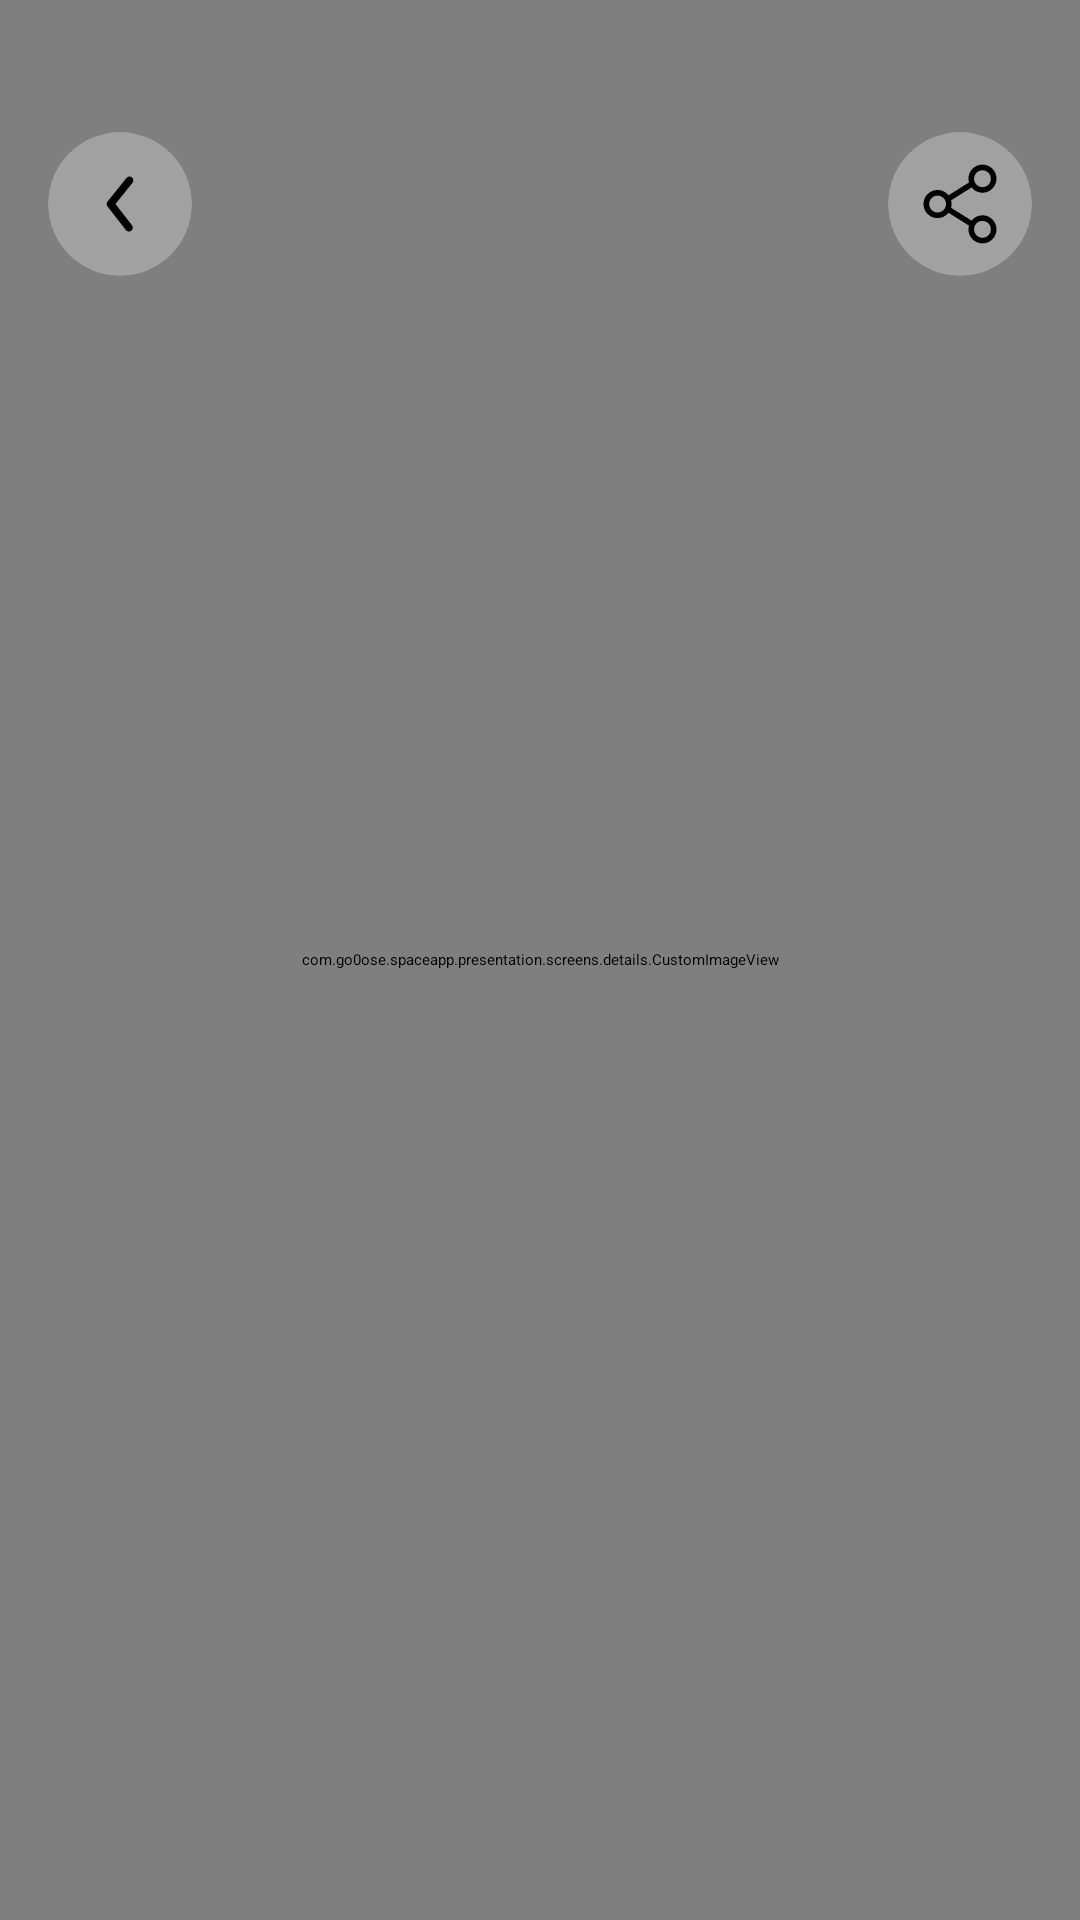

Icon click points for this 1080 × 1920 phone screenshot, format point (x, y):
back: point (120, 204)
share: point (960, 204)
